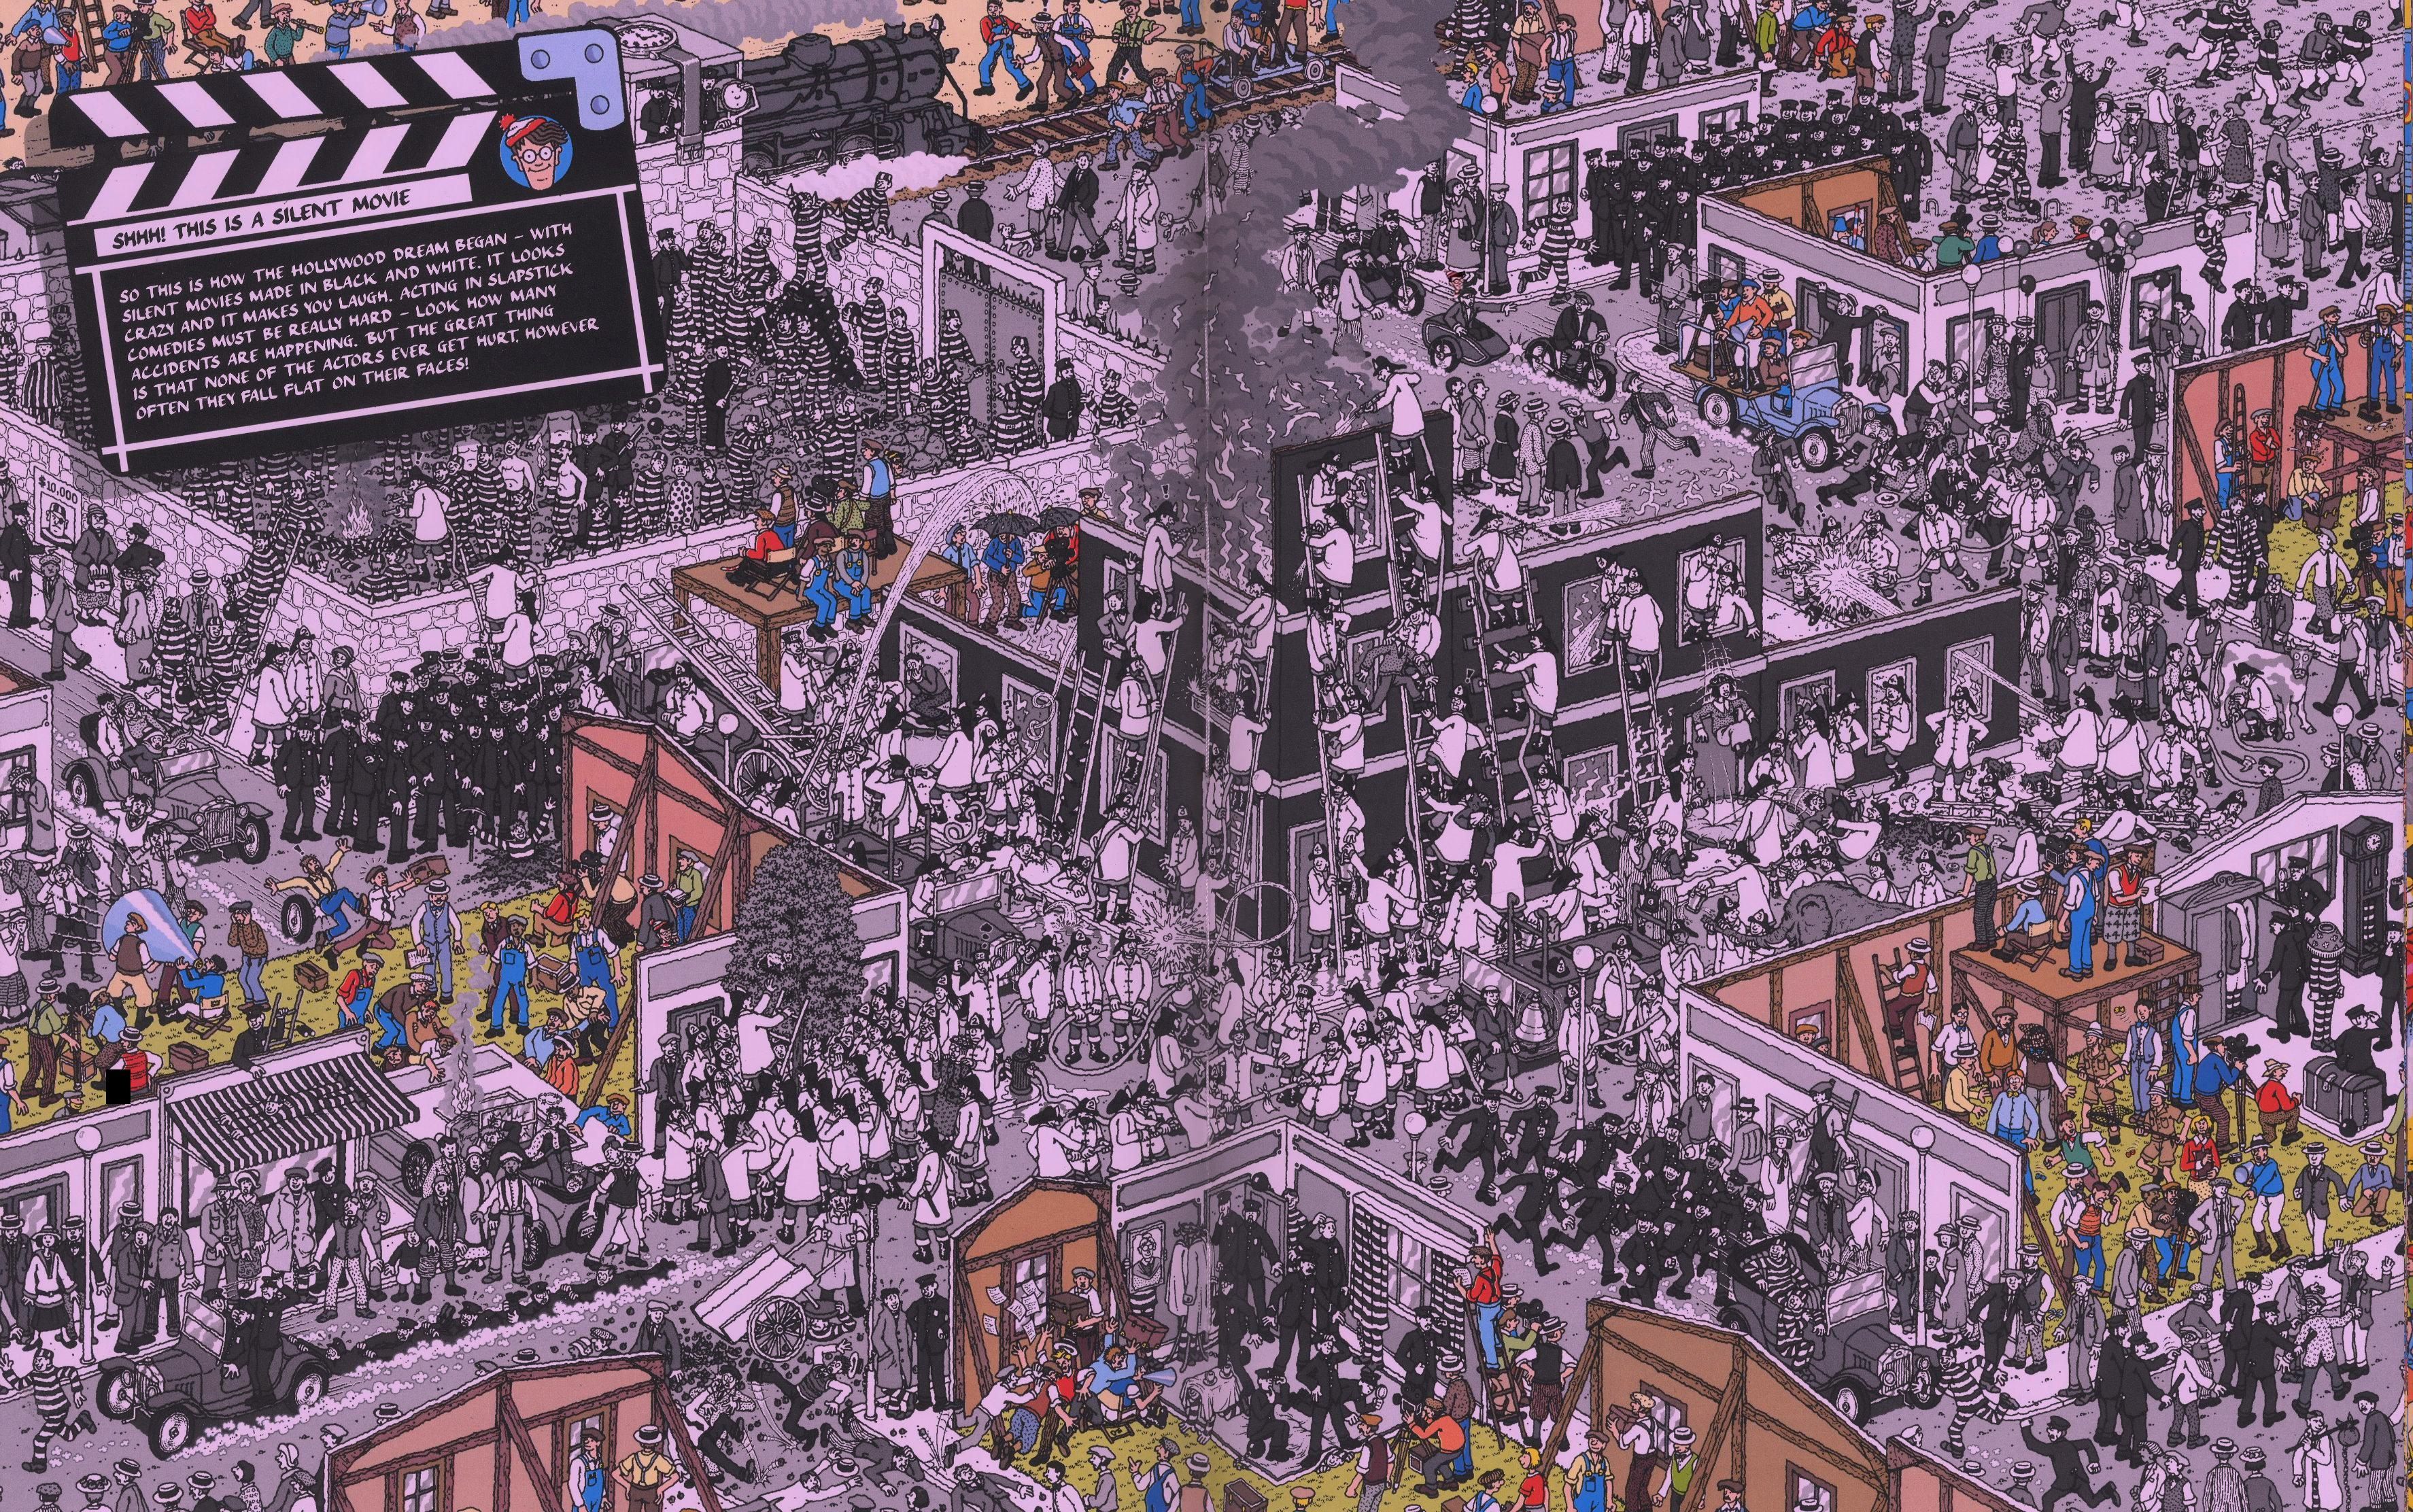waldos: (1443, 265, 1467, 300)
